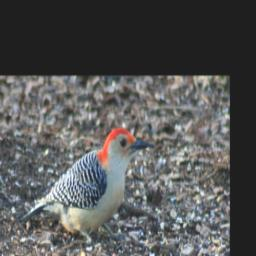Woodpecker: (24, 128, 152, 254)
